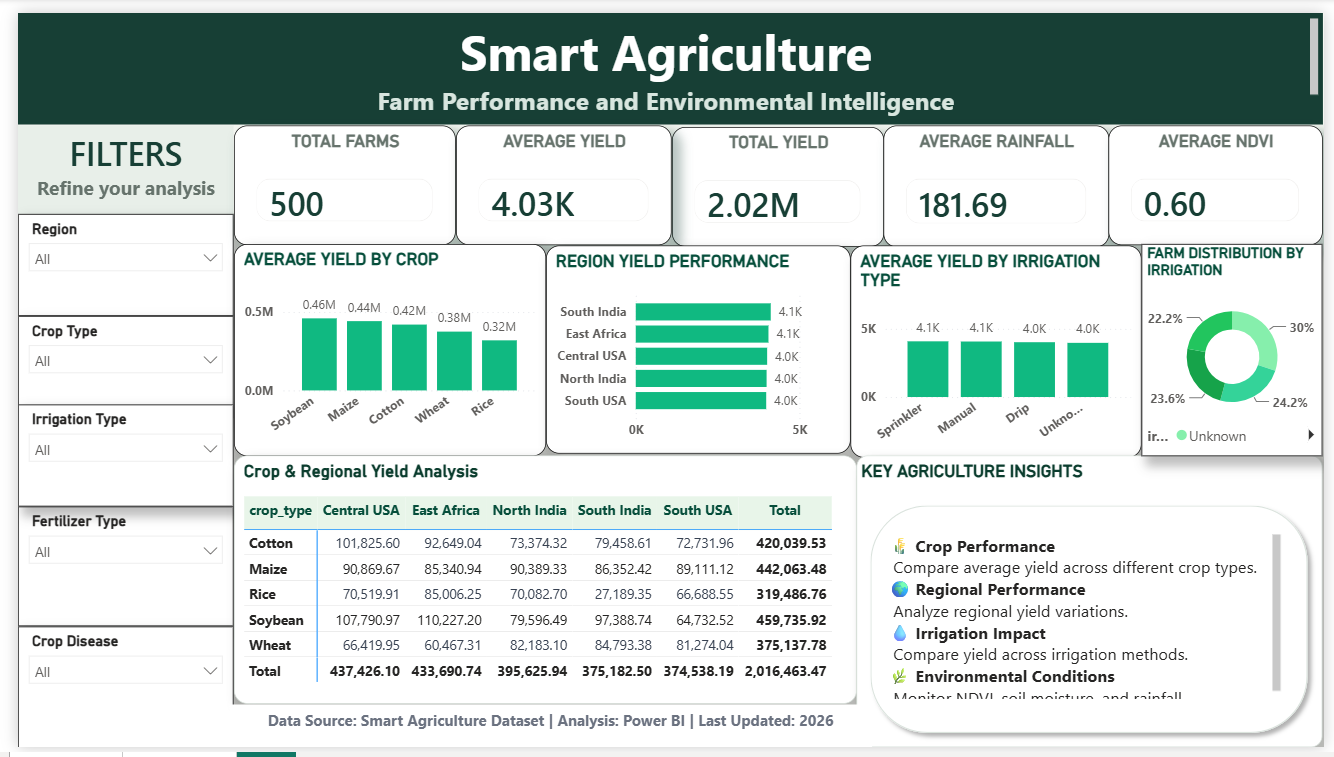

This screenshot's page, from the dashboard's own definition file:
{"tool":"powerbi","page":{"name":"Page 1","canvas":[1280,720],"ordinal":0},"visuals":[{"type":"textbox","box":[0,0,1279.4,109.6],"z":0},{"type":"textbox","box":[0,109.6,211.7,610.4],"z":1000},{"type":"slicer","fields":{"Values":["smart_agriculture_cleaned.region"]},"box":[0,196.5,211.7,100.2],"z":2000},{"type":"slicer","fields":{"Values":["smart_agriculture_cleaned.fertilizer_type"]},"box":[0,483.8,211.7,117.2],"z":3000},{"type":"slicer","fields":{"Values":["smart_agriculture_cleaned.crop_type"]},"box":[0,296.7,211.7,100],"z":4000},{"type":"slicer","fields":{"Values":["smart_agriculture_cleaned.irrigation_type"]},"box":[0,383.6,211.7,100],"z":5000},{"type":"slicer","fields":{"Values":["smart_agriculture_cleaned.crop_disease_status"]},"box":[0,600.9,211.7,119.1],"z":6000},{"type":"cardVisual","title":"TOTAL YIELD","fields":{"Data":["smart_agriculture_cleaned.Total Yield"]},"box":[640.6,111.5,207.9,117.2],"z":7000},{"type":"cardVisual","title":"TOTAL FARMS","fields":{"Data":["smart_agriculture_cleaned.Total Farms"]},"box":[211.7,109.6,217.3,117.2],"z":8000},{"type":"cardVisual","title":"AVERAGE YIELD","fields":{"Data":["smart_agriculture_cleaned.Average Yield"]},"box":[429,109.6,211.7,117.2],"z":9000},{"type":"cardVisual","title":"AVERAGE RAINFALL","fields":{"Data":["smart_agriculture_cleaned.Average Rainfall"]},"box":[848.5,109.6,221.1,119.1],"z":10000},{"type":"cardVisual","title":"AVERAGE NDVI","fields":{"Data":["smart_agriculture_cleaned.Average NDVI"]},"box":[1069.6,109.6,209.8,117.2],"z":11000},{"type":"clusteredColumnChart","title":"AVERAGE YIELD BY CROP","fields":{"Category":["smart_agriculture_cleaned.crop_type"],"Y":["Sum(smart_agriculture_cleaned.yield_kg_per_hectare)"]},"box":[211.7,226.8,306.1,207.9],"z":12000},{"type":"clusteredBarChart","title":"REGION YIELD PERFORMANCE","fields":{"Category":["smart_agriculture_cleaned.region"],"Y":["smart_agriculture_cleaned.Average Yield"]},"box":[517.8,228.7,298.6,204.1],"z":13000},{"type":"clusteredColumnChart","title":"AVERAGE YIELD BY IRRIGATION TYPE","fields":{"Category":["smart_agriculture_cleaned.irrigation_type"],"Y":["smart_agriculture_cleaned.Average Yield"]},"box":[816.4,228.7,285.4,207.9],"z":14000},{"type":"pivotTable","title":"Crop & Regional Yield Analysis","fields":{"Rows":["smart_agriculture_cleaned.crop_type"],"Columns":["smart_agriculture_cleaned.region"],"Values":["Sum(smart_agriculture_cleaned.yield_kg_per_hectare)"]},"box":[211.6,434.2,610.8,243.4],"z":15000},{"type":"shape","title":"KEY AGRICULTURE INSIGHTS","box":[822.3,434.2,456.5,286.3],"z":16000},{"type":"textbox","box":[847.8,505.8,394.5,171.8],"z":17000},{"type":"donutChart","title":"FARM DISTRIBUTION BY IRRIGATION","fields":{"Category":["smart_agriculture_cleaned.irrigation_type"],"Y":["CountNonNull(smart_agriculture_cleaned.farm_id)"]},"box":[1101.7,226.8,177.6,207.9],"z":18000},{"type":"textbox","box":[206.8,677.6,629.9,42.9],"z":19000}]}

Visuals, with their boxes in screenshot pixels (x1, y1, x2, y2), scaled from the page's 1280x720 canvas onto the 1334x757 screenshot:
textbox: x1=0, y1=0, x2=1333, y2=115
textbox: x1=0, y1=115, x2=221, y2=756
slicer - smart_agriculture_cleaned.region: x1=0, y1=207, x2=221, y2=312
slicer - smart_agriculture_cleaned.fertilizer_type: x1=0, y1=509, x2=221, y2=632
slicer - smart_agriculture_cleaned.crop_type: x1=0, y1=312, x2=221, y2=417
slicer - smart_agriculture_cleaned.irrigation_type: x1=0, y1=403, x2=221, y2=508
slicer - smart_agriculture_cleaned.crop_disease_status: x1=0, y1=632, x2=221, y2=756
"TOTAL YIELD" cardVisual: x1=668, y1=117, x2=884, y2=240
"TOTAL FARMS" cardVisual: x1=221, y1=115, x2=447, y2=238
"AVERAGE YIELD" cardVisual: x1=447, y1=115, x2=668, y2=238
"AVERAGE RAINFALL" cardVisual: x1=884, y1=115, x2=1115, y2=240
"AVERAGE NDVI" cardVisual: x1=1115, y1=115, x2=1333, y2=238
"AVERAGE YIELD BY CROP" clusteredColumnChart: x1=221, y1=238, x2=540, y2=457
"REGION YIELD PERFORMANCE" clusteredBarChart: x1=540, y1=240, x2=851, y2=455
"AVERAGE YIELD BY IRRIGATION TYPE" clusteredColumnChart: x1=851, y1=240, x2=1148, y2=459
"Crop & Regional Yield Analysis" pivotTable: x1=221, y1=457, x2=857, y2=712
"KEY AGRICULTURE INSIGHTS" shape: x1=857, y1=457, x2=1333, y2=756
textbox: x1=884, y1=532, x2=1295, y2=712
"FARM DISTRIBUTION BY IRRIGATION" donutChart: x1=1148, y1=238, x2=1333, y2=457
textbox: x1=216, y1=712, x2=872, y2=756
